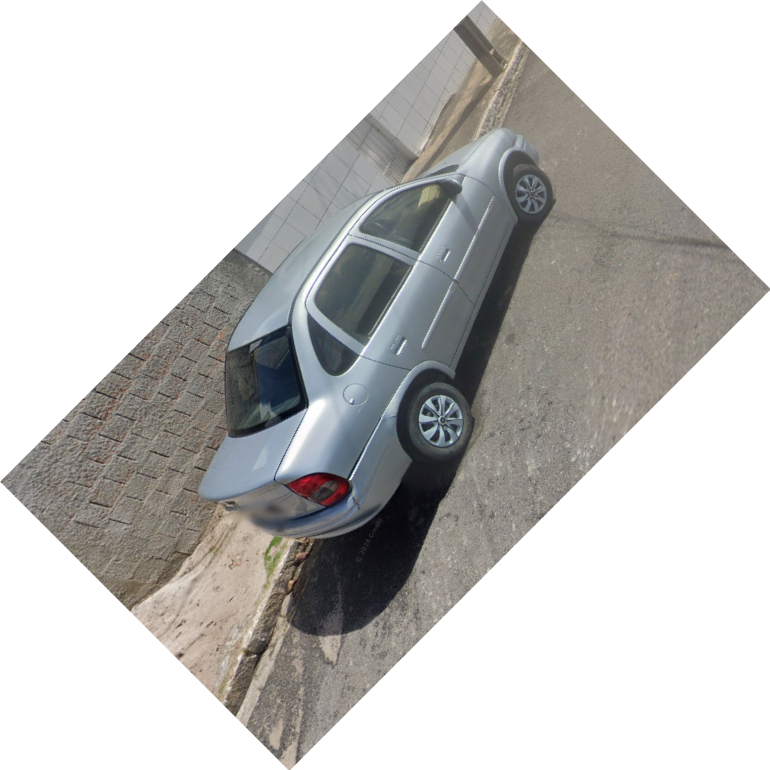car: (192, 125, 555, 543)
